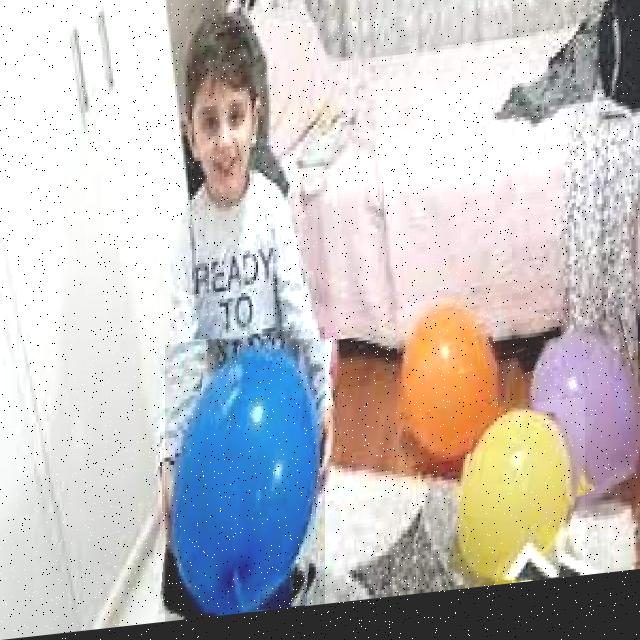balloon: (165, 335, 325, 626), (453, 411, 585, 600), (524, 333, 640, 515), (397, 304, 501, 475)
